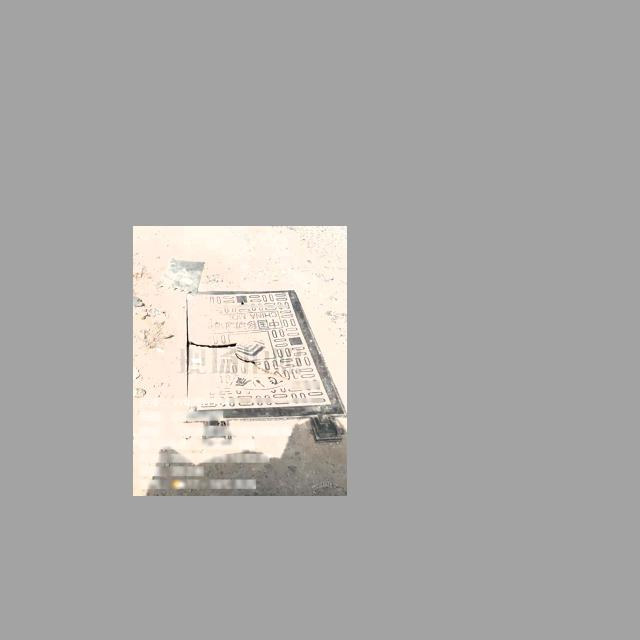broke: (182, 289, 347, 445)
